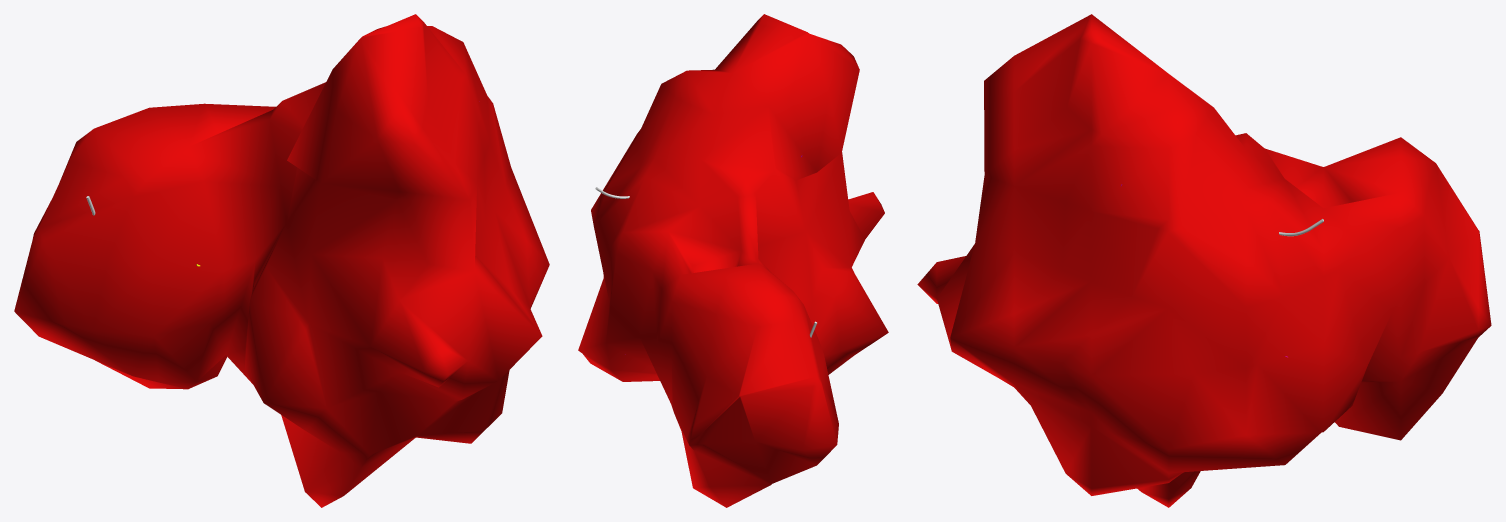
Rendered from sky1_mono_merge_armtest3.fbx.
The picture shows the model from 3 angles, left to right: view 1: azimuth 30°, elevation 25°; view 2: azimuth 150°, elevation 25°; view 3: azimuth 270°, elevation 25°; orthographic projection. The views are drawn at different scales.
Parts seen in each view (by area): view 1: CoarseMS_1Q8Z_monomer; view 2: CoarseMS_1Q8Z_monomer; view 3: CoarseMS_1Q8Z_monomer.
Boxes of the visible parts, <box> form: CoarseMS_1Q8Z_monomer: <box>14,14,549,507</box>; CoarseMS_1Q8Z_monomer: <box>578,14,888,507</box>; CoarseMS_1Q8Z_monomer: <box>917,14,1491,507</box>.
Size of the model in its own units: 51.3 by 63.78 by 65.81.
